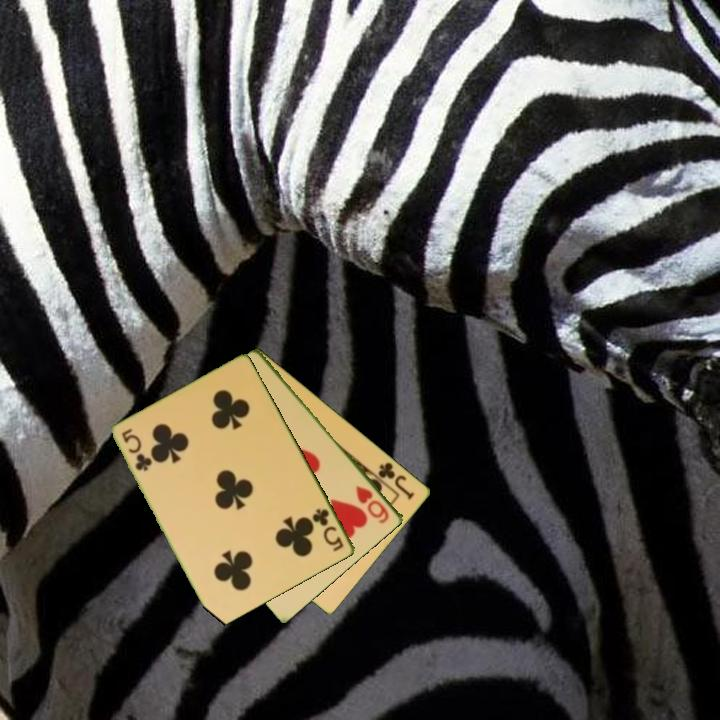5c: (309, 505, 347, 555), (118, 425, 154, 474)
6h: (353, 482, 393, 527)
Jc: (375, 459, 418, 502)
